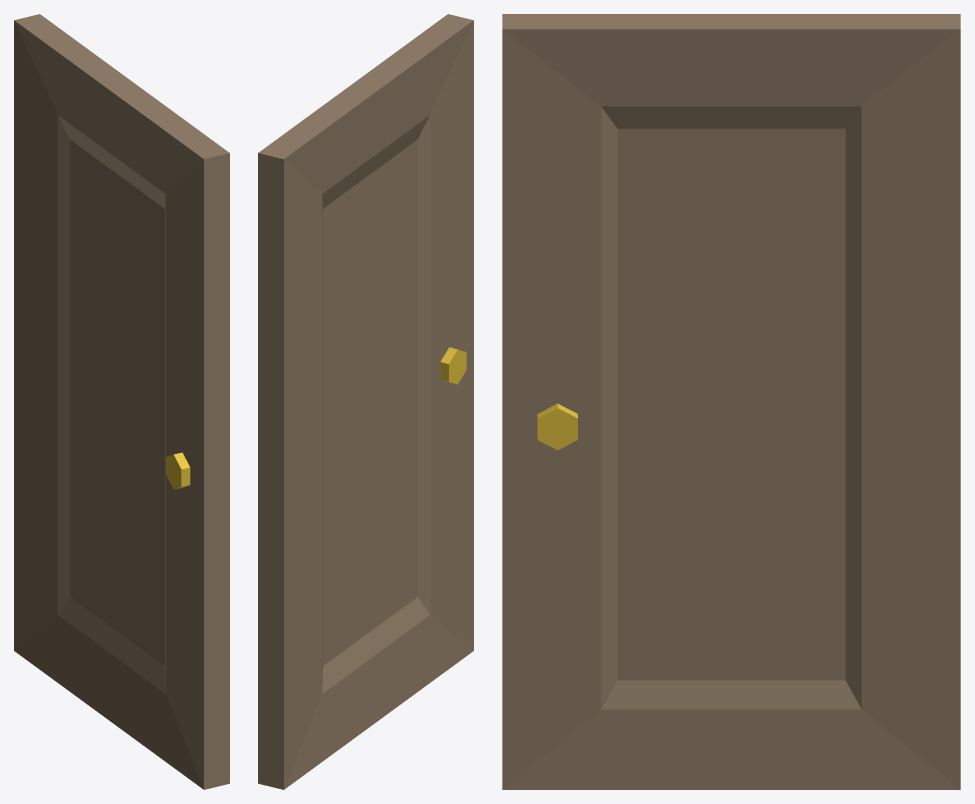
File: Door with animation 3.fbx
3 renders of one model, left to right at view 1: azimuth 30°, elevation 25°; view 2: azimuth 150°, elevation 25°; view 3: azimuth 270°, elevation 25°, orthographic. The views are drawn at different scales.
Visible parts, largest first — view 1: pasted__pCube1, pCylinder1; view 2: pasted__pCube1, pCylinder1; view 3: pasted__pCube1, pasted__pCylinder1.
Boxes of the visible parts, x1,y1,x2,y2 form: pasted__pCube1: (14, 14, 229, 789); pCylinder1: (166, 452, 190, 489); pasted__pCube1: (258, 14, 473, 789); pCylinder1: (440, 347, 466, 384); pasted__pCube1: (502, 14, 960, 789); pasted__pCylinder1: (537, 403, 577, 450).
Bounding box in the file's own units: 0.2929 × 4.33 × 2.37.
